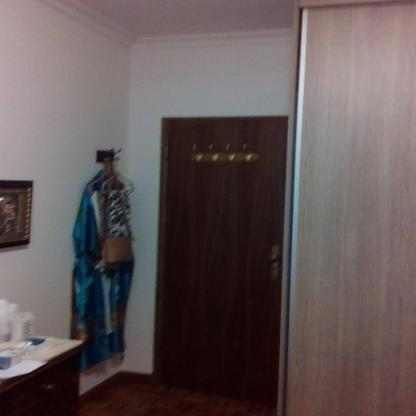door: (166, 125, 284, 391)
hinged: (165, 144, 168, 159)
knob: (268, 254, 278, 264)
